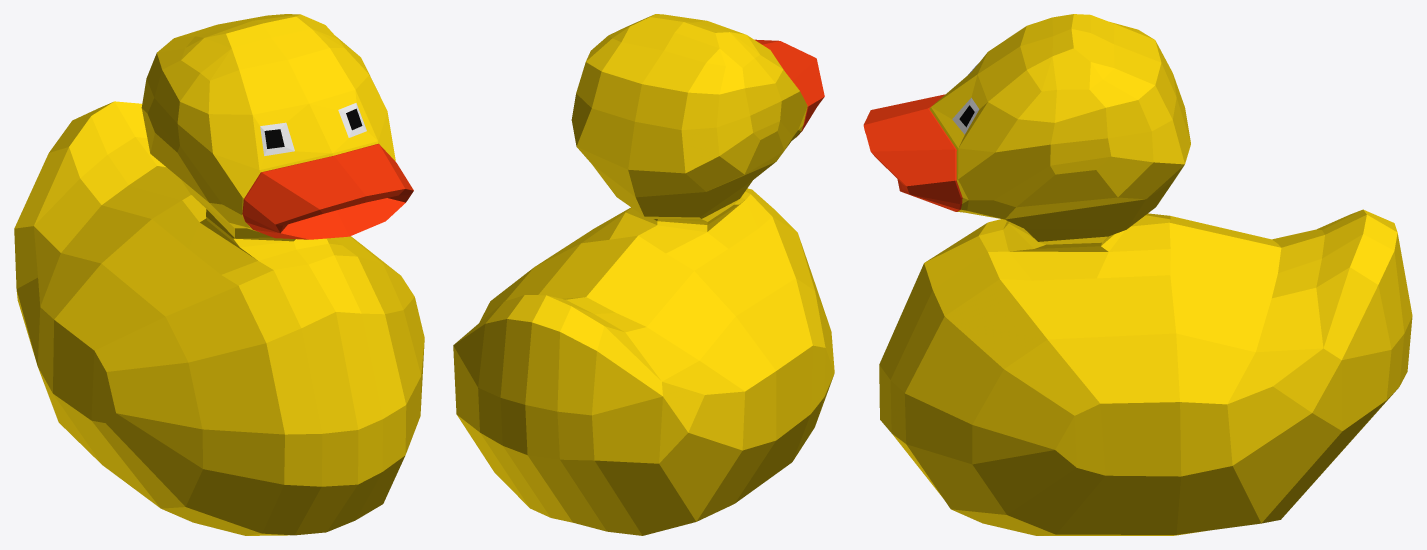
The model's file is Duck.glb.
3 views of the same model, side by side, from view 1: azimuth 30°, elevation 25°; view 2: azimuth 150°, elevation 25°; view 3: azimuth 270°, elevation 25° (orthographic). The views are drawn at different scales.
Parts seen in each view (by area): view 1: Duck; view 2: Duck; view 3: Duck.
Part boxes in pixels (x1,y1,x2,y2): Duck: (14, 14, 424, 535); Duck: (453, 14, 834, 535); Duck: (863, 14, 1412, 535).
Size of the model in its own units: 2.04 by 2.93 by 3.13.
